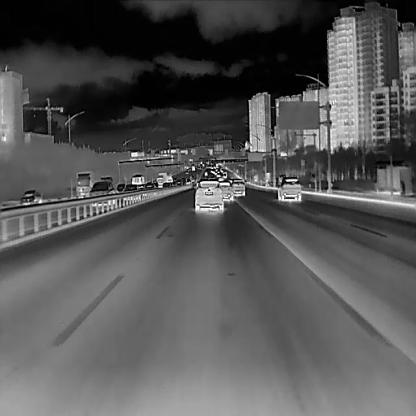bus: (222, 171, 227, 178), (220, 168, 223, 172)
car: (194, 180, 223, 212), (89, 180, 113, 205), (278, 177, 300, 202), (74, 170, 90, 196), (18, 188, 40, 204), (218, 180, 233, 200), (124, 184, 140, 200), (231, 178, 244, 196), (115, 182, 124, 193), (164, 174, 171, 183), (216, 172, 220, 177), (204, 171, 207, 176), (191, 165, 194, 170)
truck: (156, 170, 165, 186), (131, 174, 142, 184)
